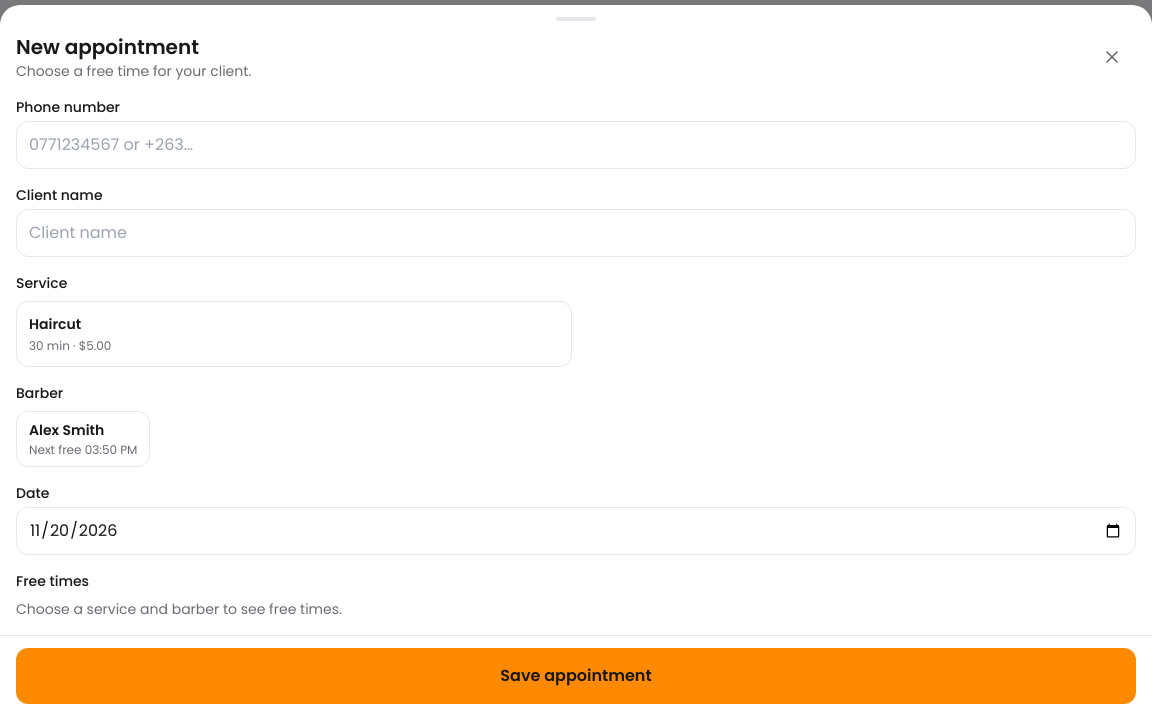
Test case: CreateBookingModal › validates required fields before submitting
Click the button "Save appointment".
click(576, 676)  # box left=16, top=648, right=1136, bottom=704
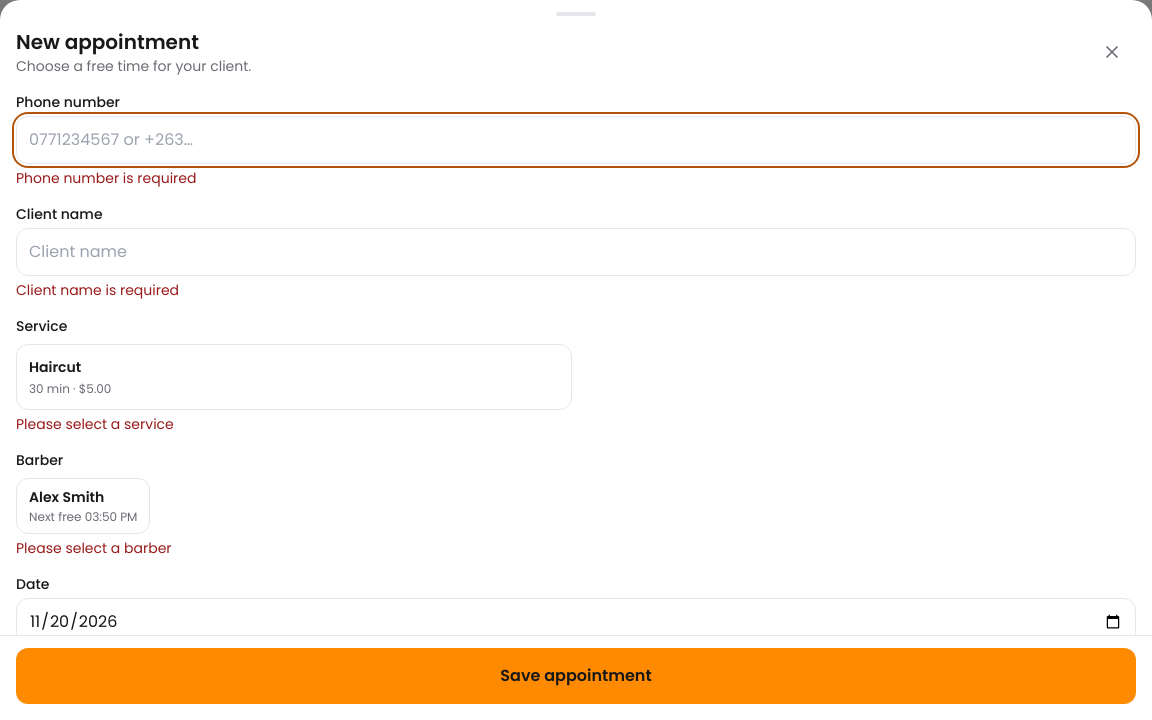
Result: the text "Client name is required" is shown at left=16, top=280, right=179, bottom=300
